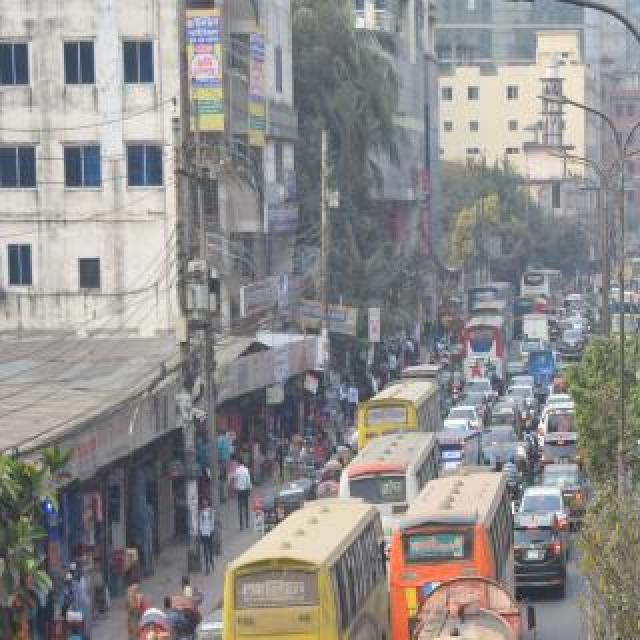bus: (212, 490, 386, 640), (386, 468, 518, 640), (342, 426, 444, 538), (354, 378, 446, 456), (461, 314, 509, 386), (467, 281, 515, 343), (470, 298, 510, 342), (521, 268, 565, 302), (616, 254, 640, 278)
car: (513, 511, 567, 597), (519, 485, 571, 555), (540, 462, 588, 530), (537, 433, 587, 481), (480, 425, 520, 465), (448, 406, 484, 436), (506, 385, 536, 419), (466, 377, 496, 407), (509, 376, 541, 402), (560, 328, 584, 360), (519, 335, 549, 357), (541, 307, 563, 335), (632, 420, 640, 476)
motorbike: (501, 457, 523, 517), (523, 418, 539, 476), (450, 362, 466, 406), (487, 365, 501, 401), (138, 632, 172, 640)
truck: (384, 566, 536, 640)
van: (435, 426, 481, 472), (545, 401, 583, 447), (527, 348, 559, 398), (612, 292, 640, 348), (520, 312, 552, 346), (514, 295, 538, 335)
